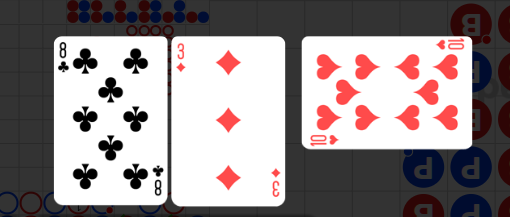10H: (309, 132, 341, 147), (434, 39, 466, 53)
8C: (150, 163, 164, 197)
